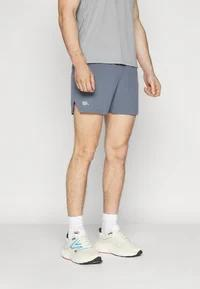Shorts: (69, 62, 140, 116)
short sleeve shirt: (66, 0, 140, 67)
